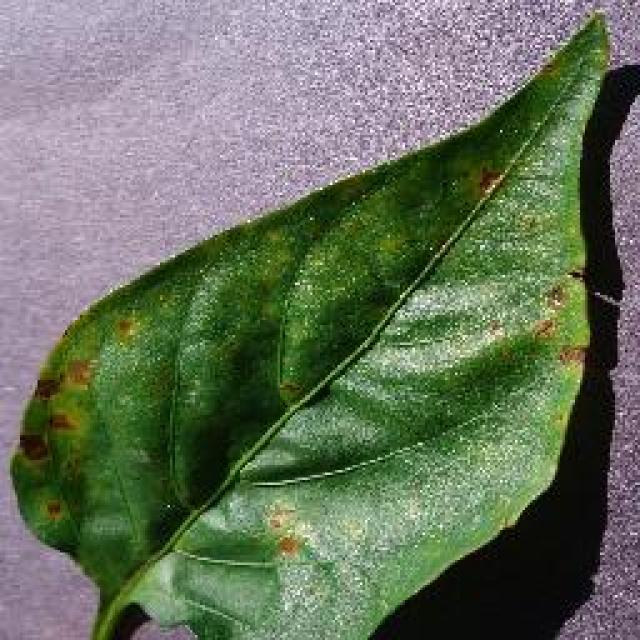Chilli_Bacterial_Spot: (5, 5, 617, 637), (5, 352, 103, 552), (523, 260, 595, 372), (257, 497, 315, 565), (470, 162, 508, 200), (12, 430, 50, 465), (60, 355, 98, 390), (42, 405, 80, 437), (552, 338, 590, 370), (108, 312, 140, 348), (270, 530, 305, 562), (260, 503, 295, 535), (38, 493, 68, 525), (528, 315, 558, 345), (542, 280, 568, 312)
